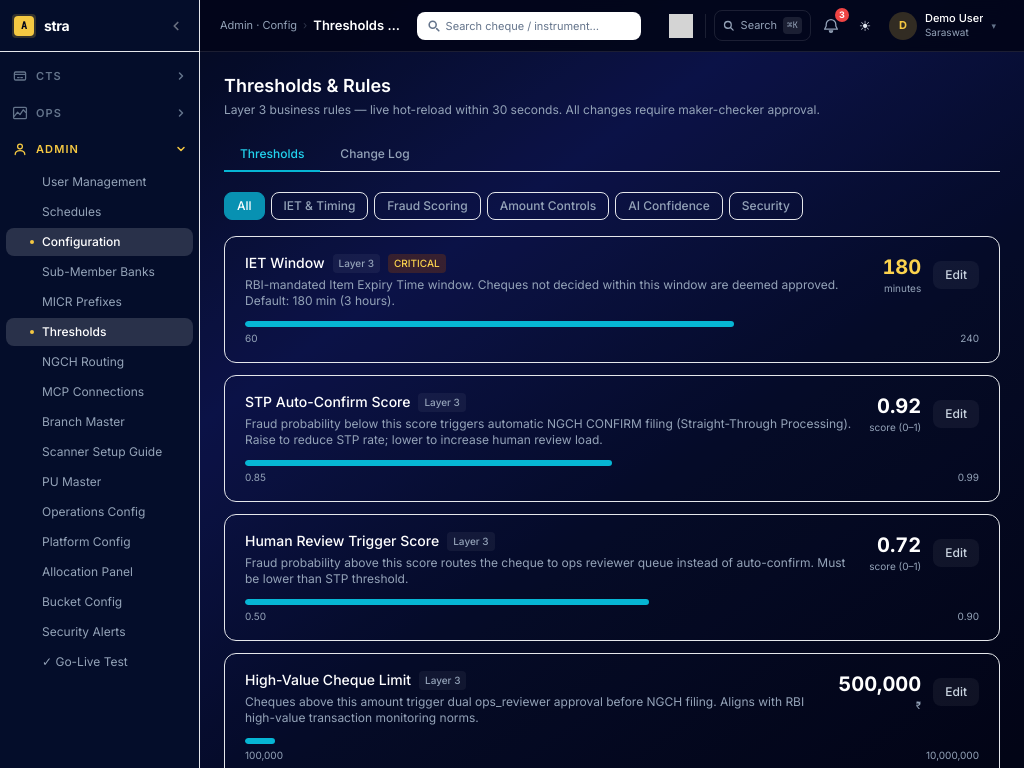
it: CTSThresholds › edit modal Cancel closes it
Click the button "Edit" next to "minutes" at (956, 274), box [933,260,979,288]
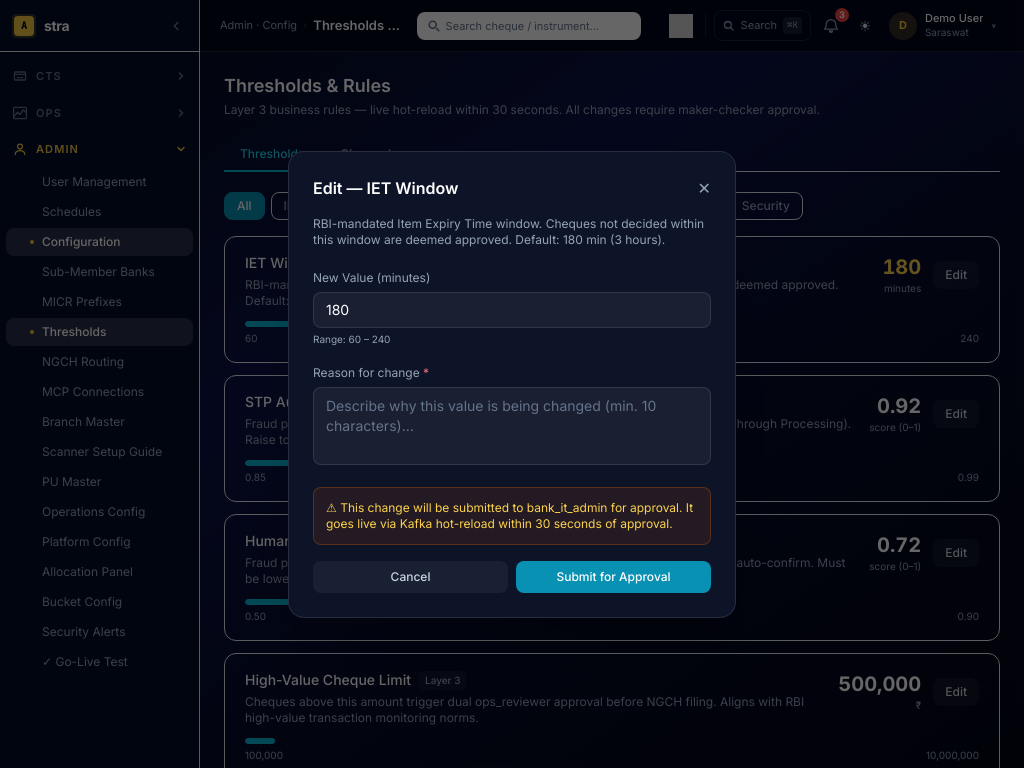
Click the button "Cancel" at (410, 576), box [313,560,508,592]
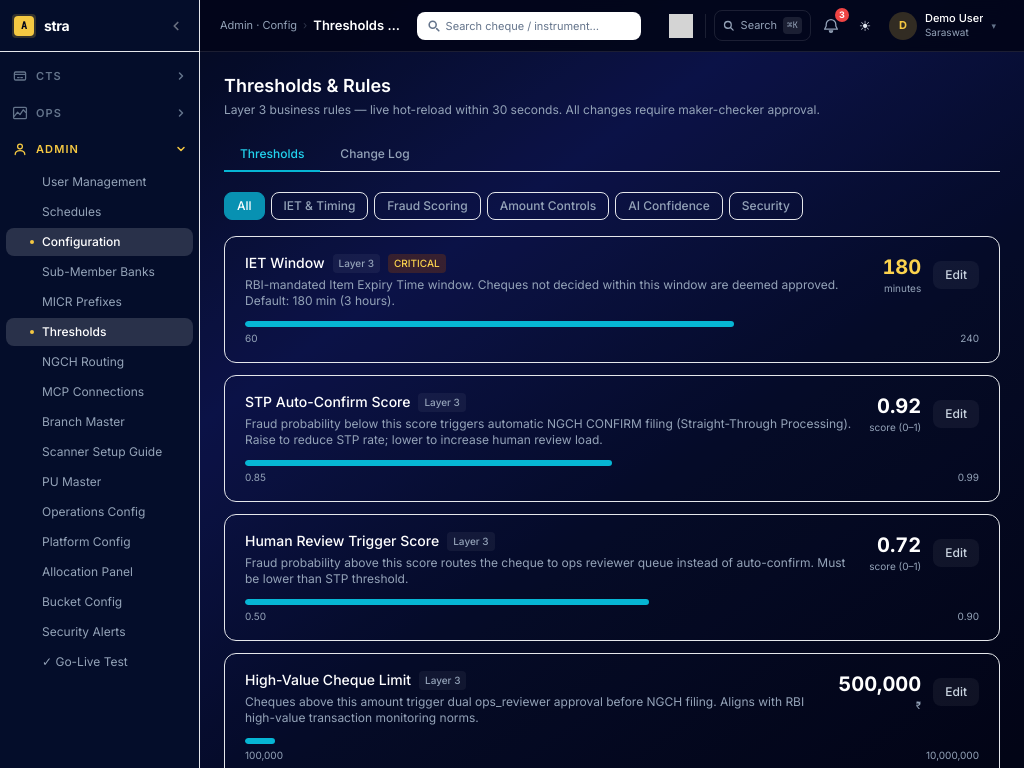
Check: the button "Submit for Approval" is gone
